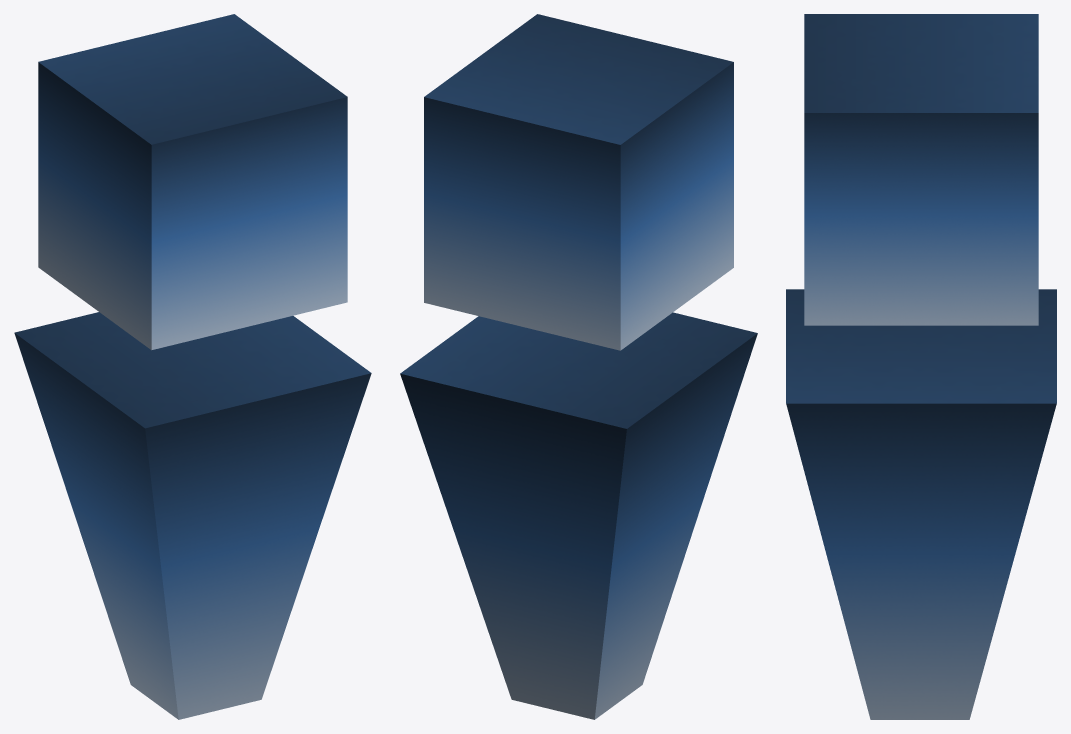
Rendered from agent_lion.obj.
3 renders of one model, left to right at view 1: azimuth 30°, elevation 25°; view 2: azimuth 150°, elevation 25°; view 3: azimuth 270°, elevation 25°, orthographic. The views are drawn at different scales.
Parts seen in each view (by area): view 1: Agent; view 2: Agent; view 3: Agent.
Part boxes in pixels (bbox=[...]): Agent: bbox=[14, 14, 371, 719]; Agent: bbox=[400, 14, 757, 719]; Agent: bbox=[786, 14, 1056, 719].
Bounding box in the file's own units: 0.4436 × 1.15 × 0.4436.
